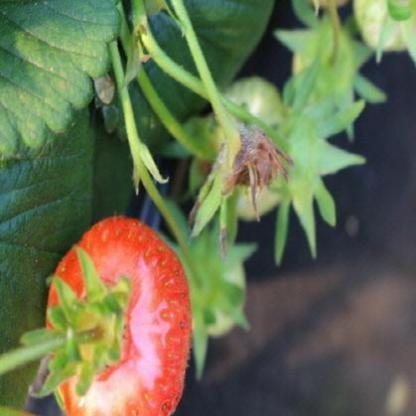Strawberry_Gray_Mold: (212, 124, 297, 221)
